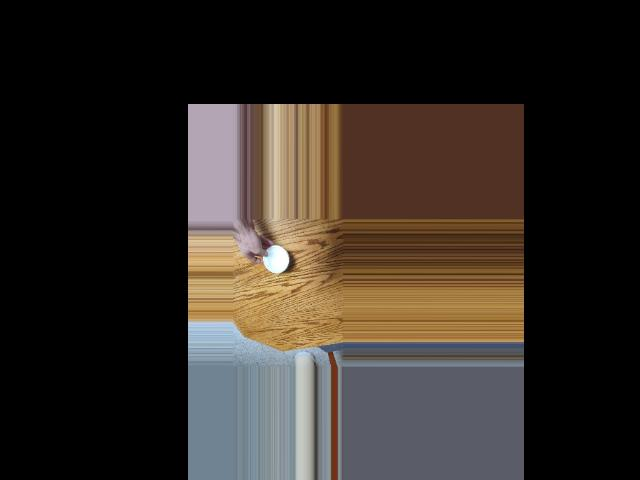cotage: (259, 241, 289, 275)
